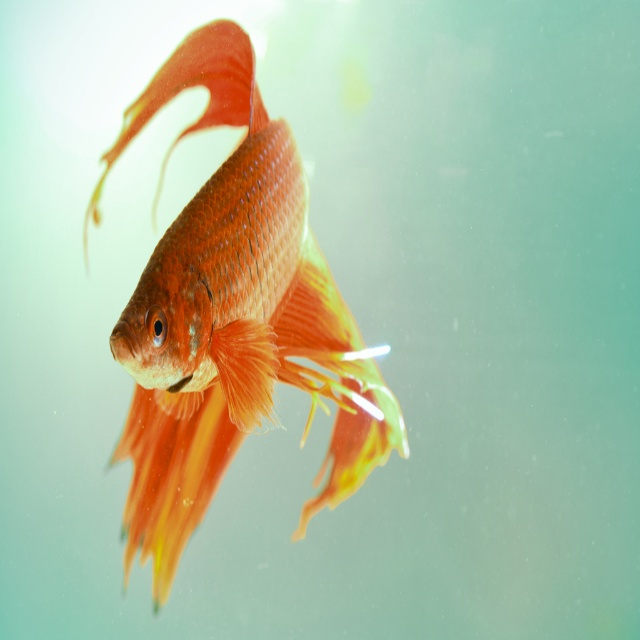Goldfish: (81, 18, 404, 618)
